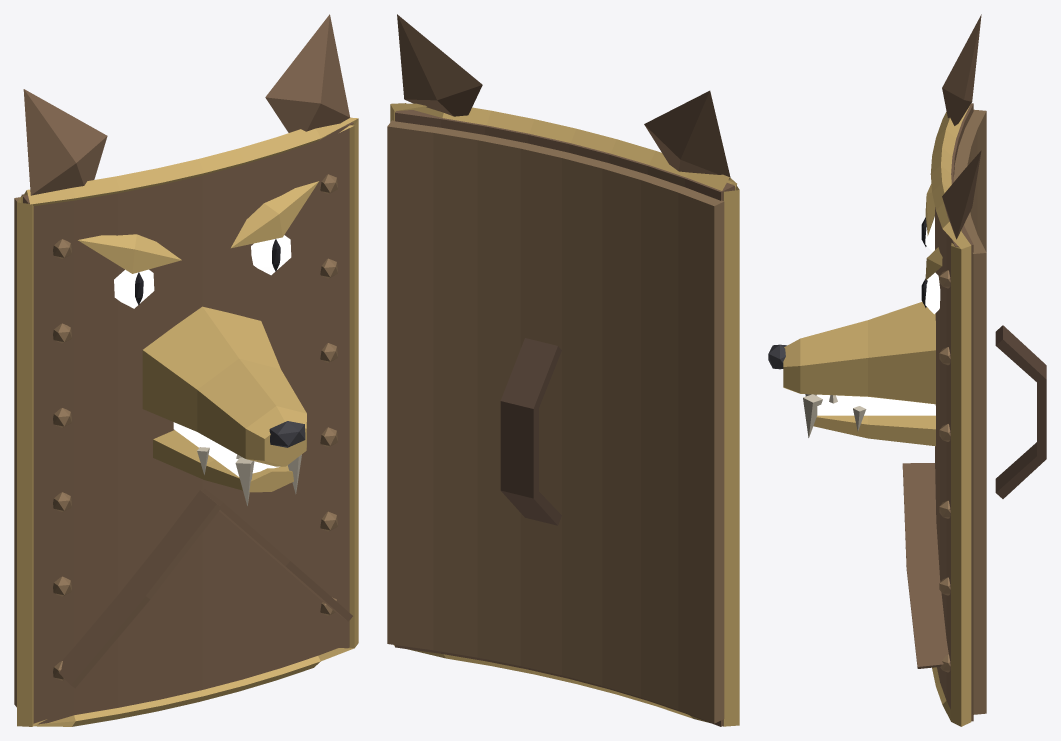
Rendered from relic-shield.glb.
3 views of the same model, side by side, from view 1: azimuth 30°, elevation 25°; view 2: azimuth 150°, elevation 25°; view 3: azimuth 270°, elevation 25° (orthographic). The views are drawn at different scales.
Parts seen in each view (by area): view 1: shield_body; view 2: shield_body; view 3: shield_body.
Part boxes in pixels (x1,y1,x2,y2): shield_body: [14, 14, 358, 726]; shield_body: [387, 14, 739, 726]; shield_body: [768, 14, 1046, 726].
Size of the model in its own units: 0.424 by 0.752 by 0.3283.
